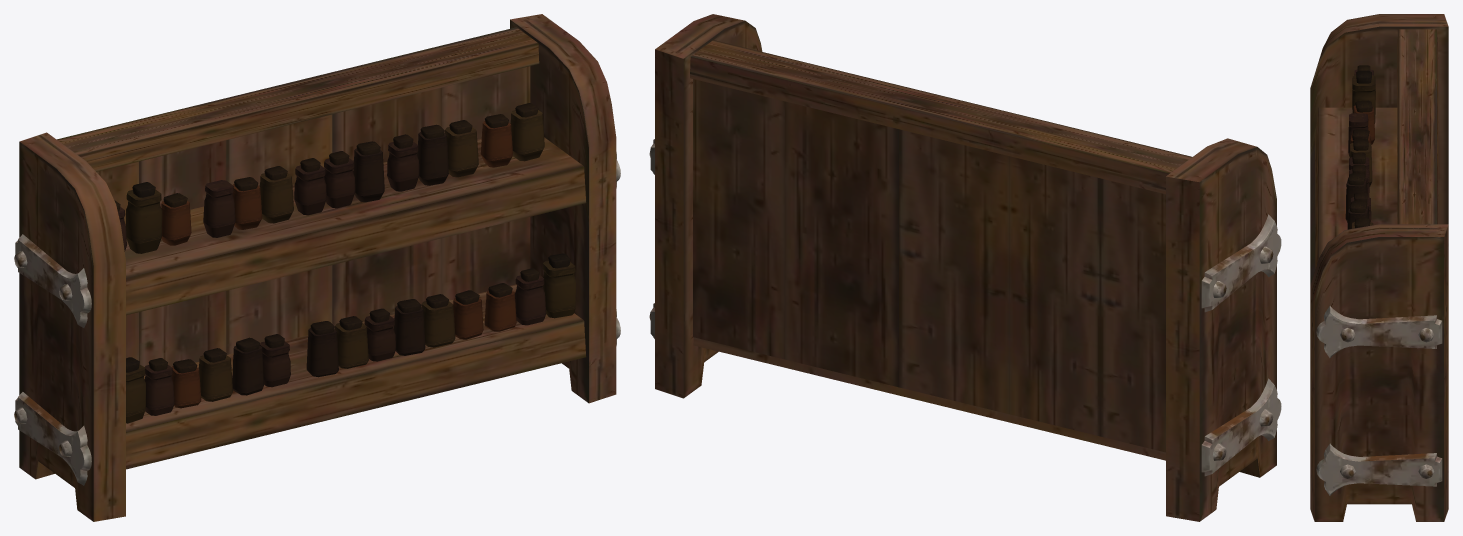
File: Shelf_Small_Bottles_Worn.glb
3 views of the same model, side by side, from view 1: azimuth 30°, elevation 25°; view 2: azimuth 150°, elevation 25°; view 3: azimuth 270°, elevation 25° (orthographic). The views are drawn at different scales.
Visible parts, largest first — view 1: Shelf_Small_Bottles; view 2: Shelf_Small_Bottles; view 3: Shelf_Small_Bottles.
Part boxes in pixels (x1,y1,x2,y2): Shelf_Small_Bottles: (14,14,620,521); Shelf_Small_Bottles: (649,14,1281,521); Shelf_Small_Bottles: (1310,14,1448,521).
Size of the model in its own units: 1.14 by 0.6474 by 0.2846.
Materials: 3 (3 with a texture image).
